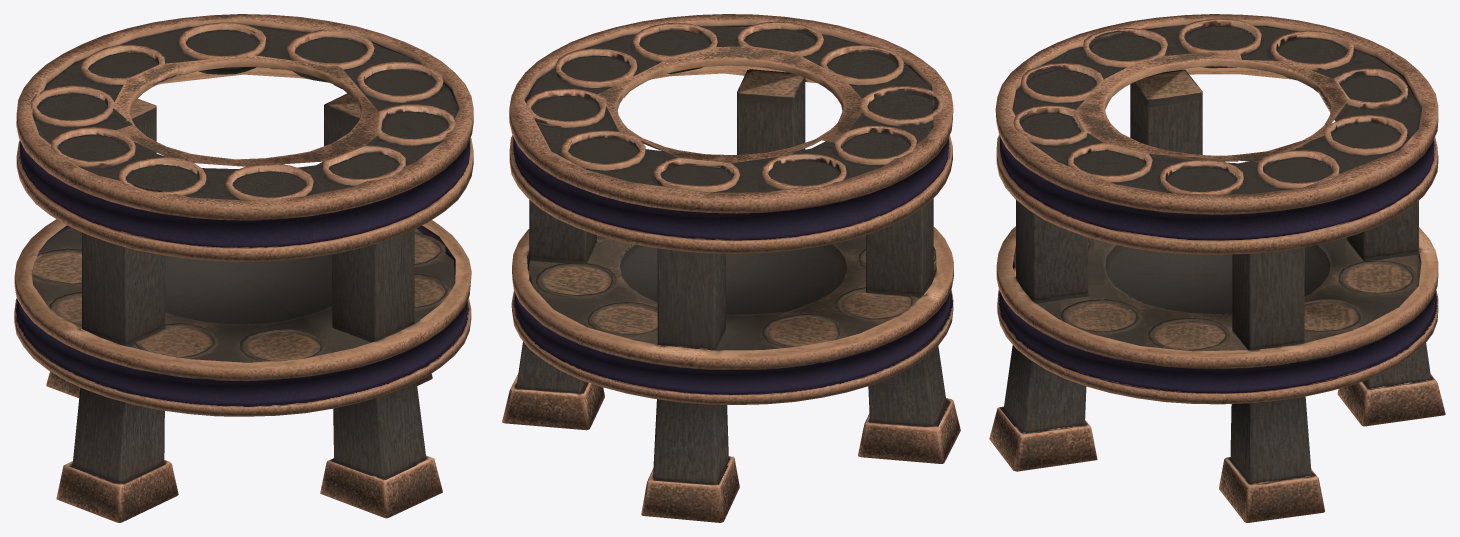
File: tripo_convert_b70e1838-597e-4dd7-b3e6-de2ad3d7344c.fbx
3 views of the same model, side by side, from view 1: azimuth 30°, elevation 25°; view 2: azimuth 150°, elevation 25°; view 3: azimuth 270°, elevation 25° (orthographic). The views are drawn at different scales.
Parts seen in each view (by area): view 1: tripo_node_b70e1838; view 2: tripo_node_b70e1838; view 3: tripo_node_b70e1838.
Boxes of the visible parts, bbox=[...] form: tripo_node_b70e1838: bbox=[14, 14, 473, 522]; tripo_node_b70e1838: bbox=[502, 14, 960, 522]; tripo_node_b70e1838: bbox=[989, 14, 1445, 522].
Bounding box in the file's own units: 0.998 × 0.7715 × 0.998.
1 material, 1 textured.
